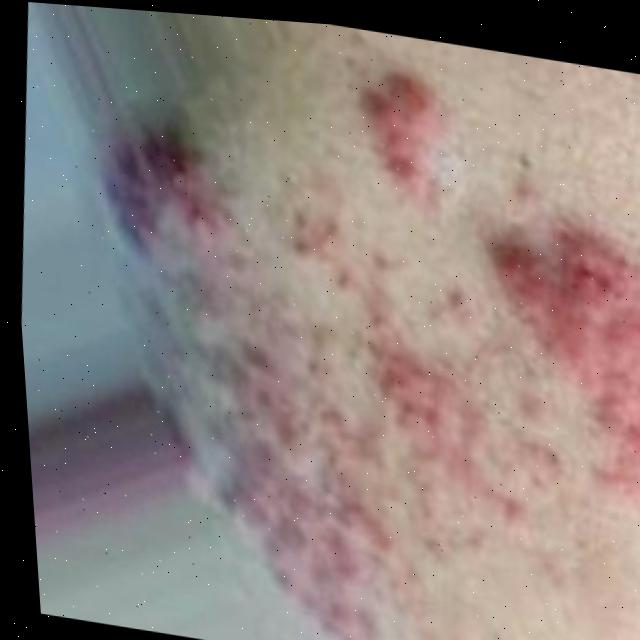Shingles: (198, 262, 482, 634), (478, 216, 640, 456), (94, 140, 218, 248), (366, 79, 451, 187)
